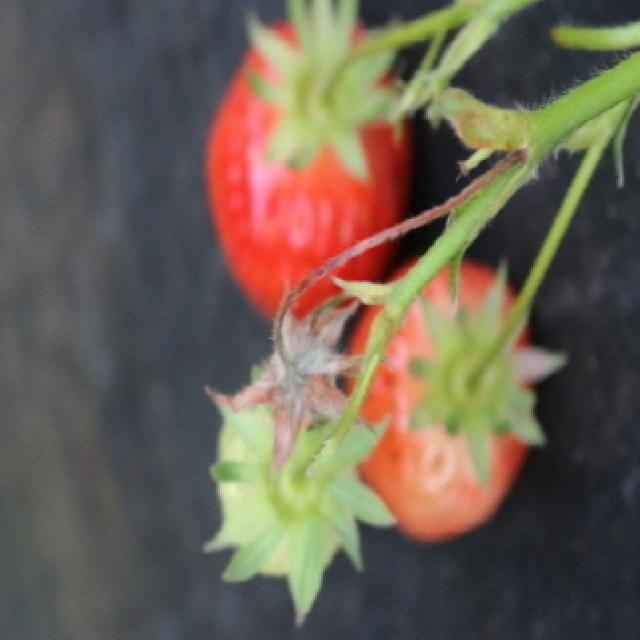Gray Mold: (206, 290, 369, 471)
